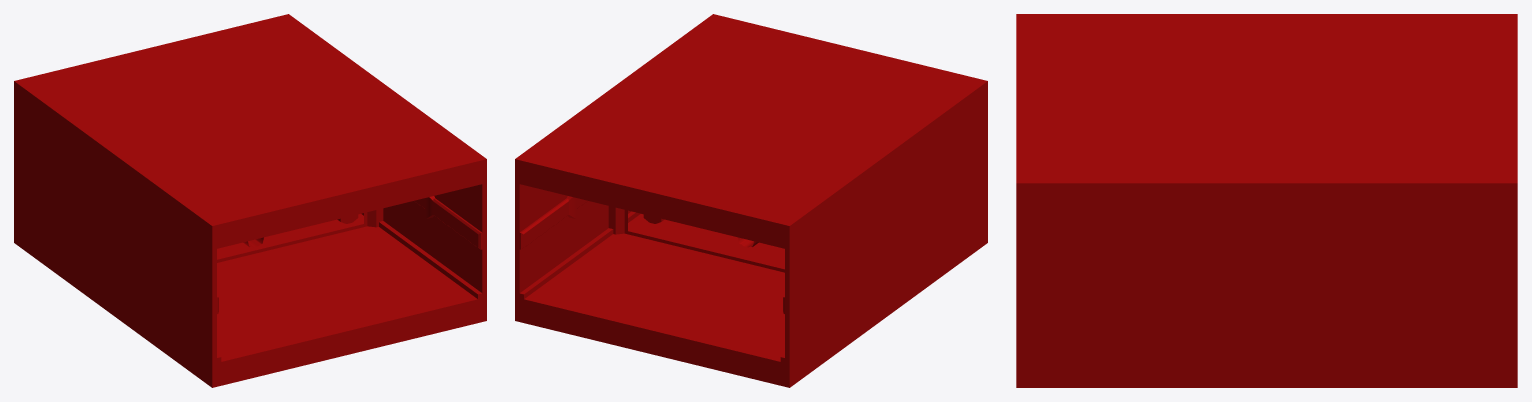
File: PasilloLargoPuerta.fbx
3 views of the same model, side by side, from view 1: azimuth 30°, elevation 25°; view 2: azimuth 150°, elevation 25°; view 3: azimuth 270°, elevation 25° (orthographic). The views are drawn at different scales.
Visible parts, largest first — view 1: PasilloLargoPuerta:pasillocerradoventana_pPlane3; view 2: PasilloLargoPuerta:pasillocerradoventana_pPlane3; view 3: PasilloLargoPuerta:pasillocerradoventana_pPlane3.
Part boxes in pixels (<box>): PasilloLargoPuerta:pasillocerradoventana_pPlane3: <box>14,14,486,387</box>; PasilloLargoPuerta:pasillocerradoventana_pPlane3: <box>515,14,987,387</box>; PasilloLargoPuerta:pasillocerradoventana_pPlane3: <box>1016,14,1517,387</box>.
Size of the model in its own units: 1600 by 901 by 2000.
